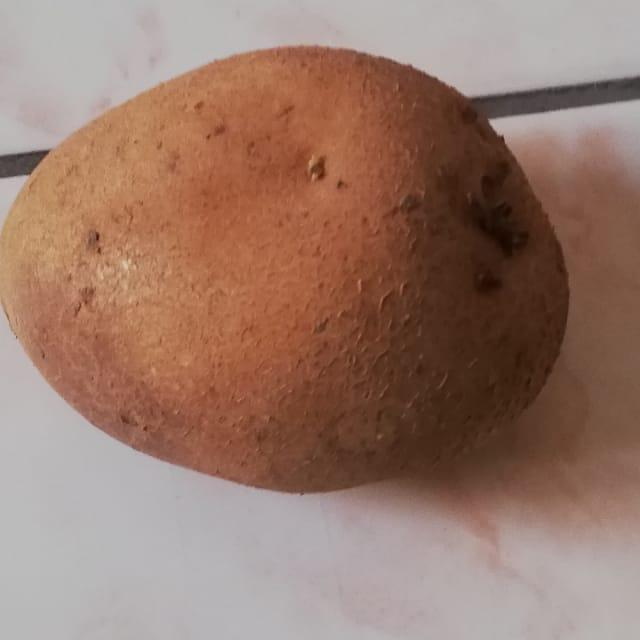potato: (0, 32, 592, 499)
